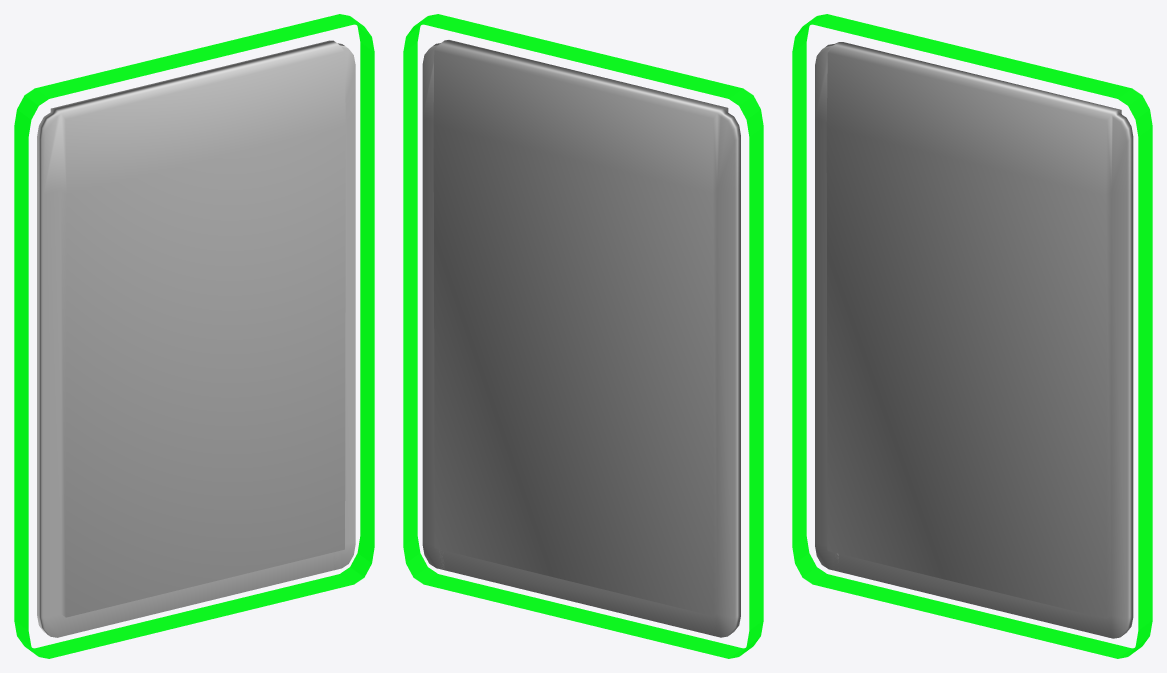
Rendered from ironman.glb.
The picture shows the model from 3 angles, left to right: view 1: azimuth 30°, elevation 25°; view 2: azimuth 150°, elevation 25°; view 3: azimuth 330°, elevation 25°; orthographic projection.
Visible parts, largest first — view 1: Cube, Cube.001; view 2: Cube, Cube.001; view 3: Cube, Cube.001.
Boxes of the visible parts, x1,y1,x2,y2 form: Cube: (37, 40, 355, 637); Cube.001: (14, 14, 374, 658); Cube: (422, 40, 740, 637); Cube.001: (403, 14, 763, 658); Cube: (815, 42, 1133, 638); Cube.001: (792, 14, 1152, 658).
Bounding box in the file's own units: 1.4 × 2.17 × 0.116.
